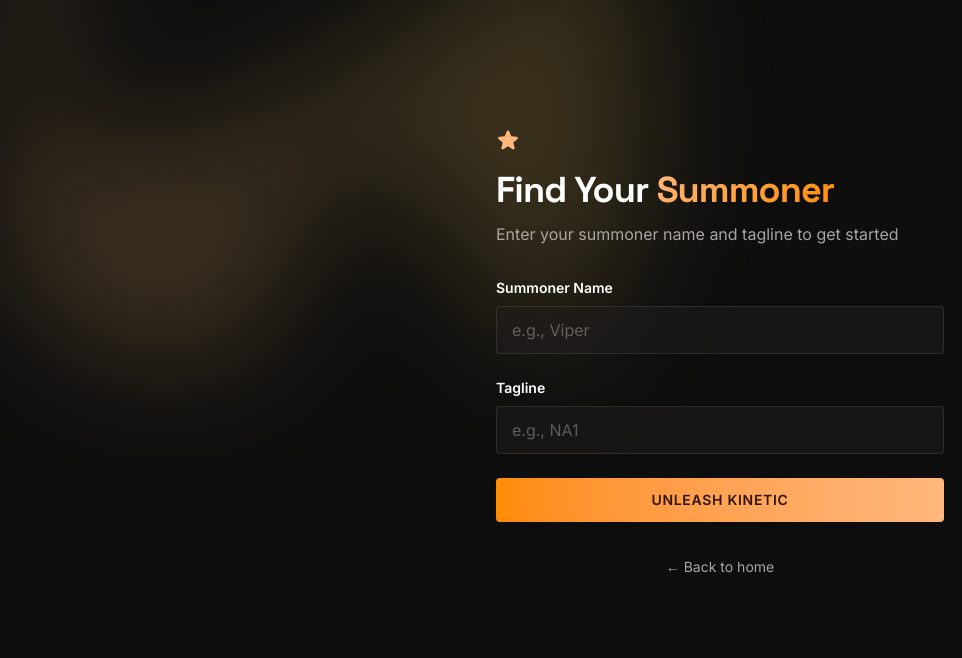
Test case: SummonerSearch Component › shows an error if the form is submitted empty
Click the button "Unleash Kinetic" at (720, 500), box x1=496 y1=478 x2=944 y2=522
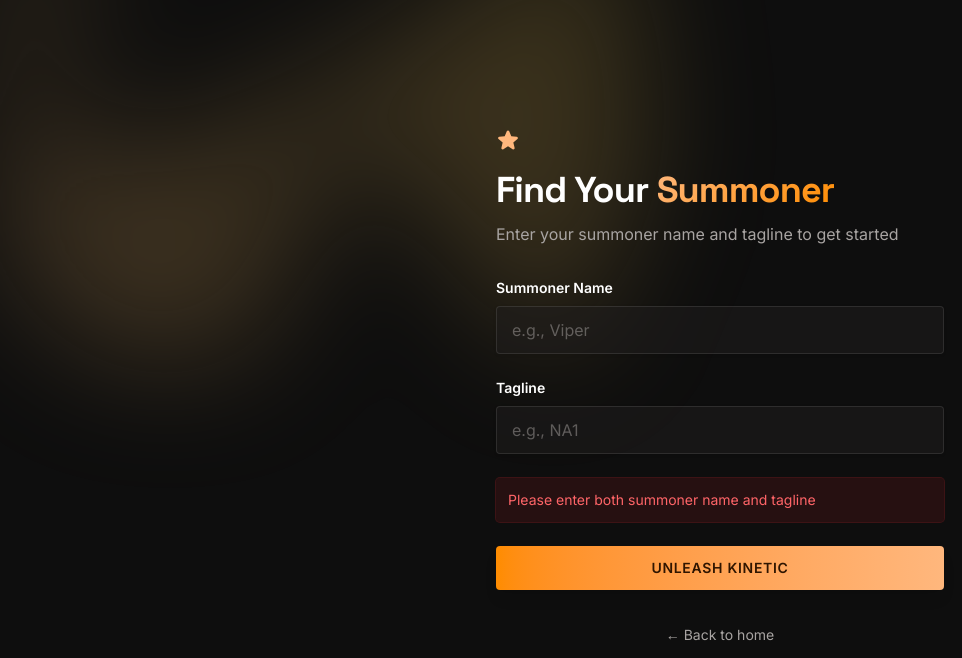
Result: the text "Please enter both summoner name and tagline" is shown at x1=508 y1=491 x2=816 y2=508
